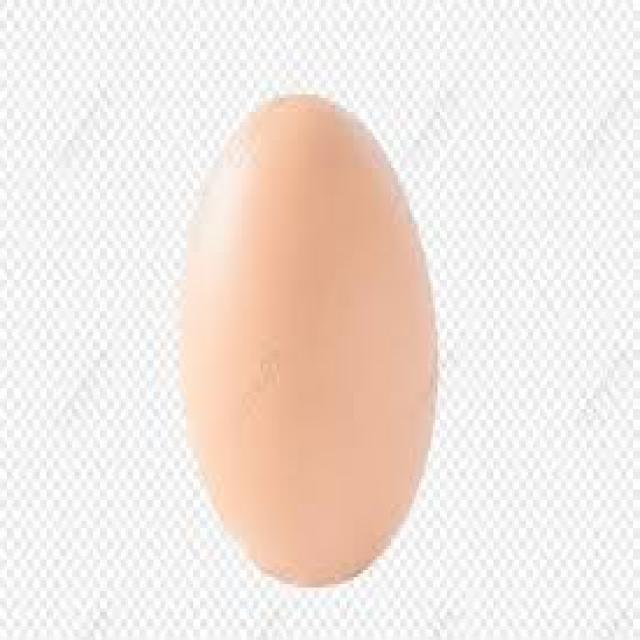Egg: (189, 98, 438, 586)
